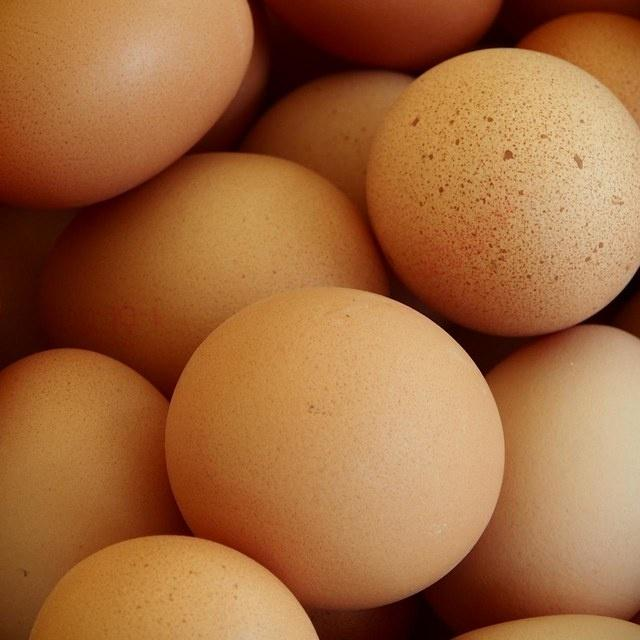egg: (180, 303, 503, 608), (355, 56, 640, 322), (0, 0, 245, 206)
